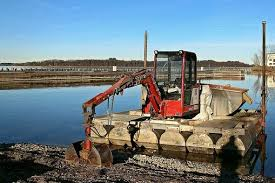excavator: (66, 54, 253, 167)
